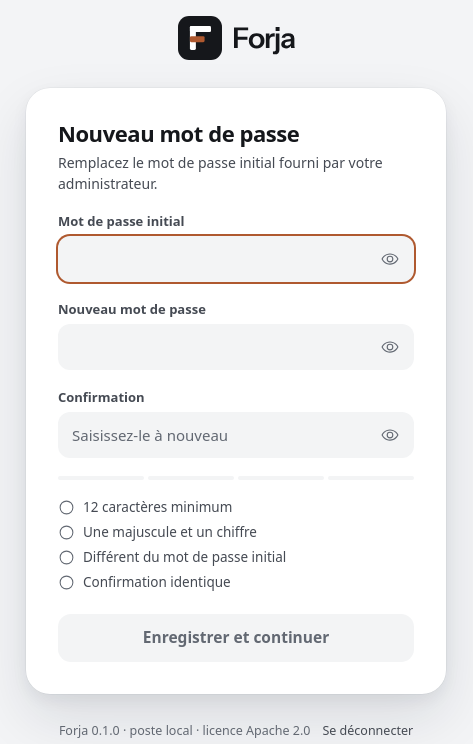
Scenario: PasswordForm › enables saving only once every requirement is met
Expected: the button "Enregistrer et continuer" is disabled, [58, 614, 414, 662]
Step 1. Type "Forja-initial-2026" into the password field labelled "Mot de passe initial" → (236,259), box [58, 236, 414, 282]
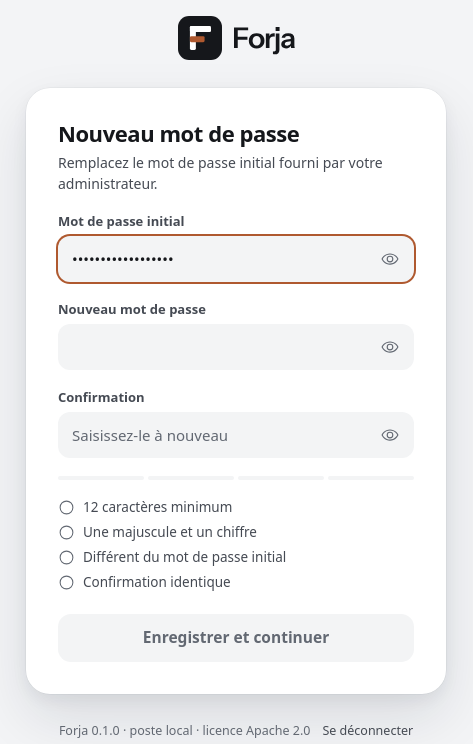
Step 2. Type "Nouveau-mot-2026" into the password field labelled "Nouveau mot de passe" → (236,347), box [58, 324, 414, 370]
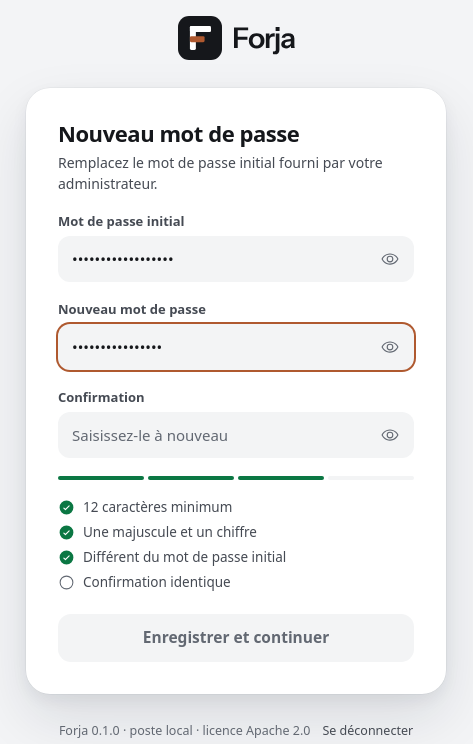
Expected: the button "Enregistrer et continuer" is disabled, [58, 614, 414, 662]
Expected: the element named "Exigences satisfaites" has attribute aria-valuenow="3", [58, 476, 414, 480]
Step 3. Type "Nouveau-mot-2026" into the password field labelled "Confirmation" → (236,435), box [58, 412, 414, 458]
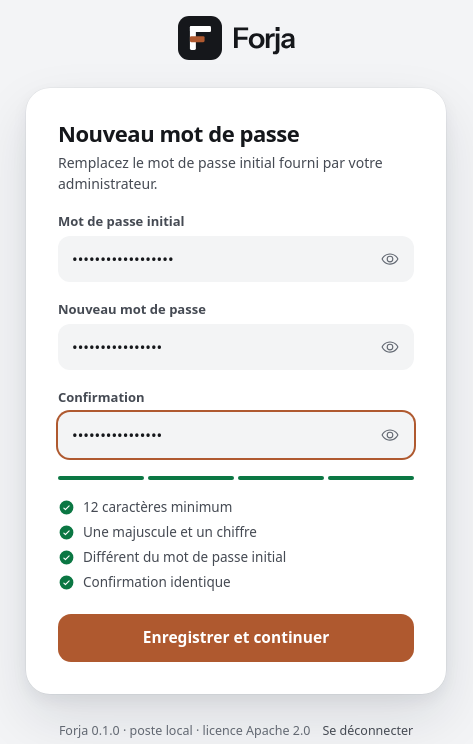
Expected: the button "Enregistrer et continuer" is enabled, [58, 614, 414, 662]
